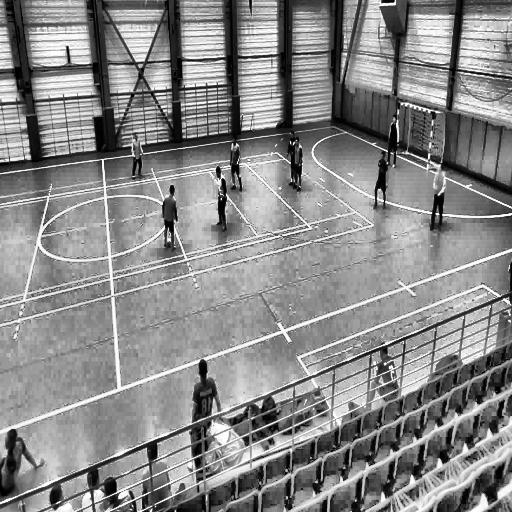ball: (166, 238, 172, 249)
player: (429, 160, 446, 231), (161, 183, 178, 251), (212, 165, 228, 233), (373, 148, 388, 210), (229, 132, 244, 191), (386, 112, 399, 168), (290, 135, 303, 191), (131, 132, 144, 181), (286, 128, 296, 189)
